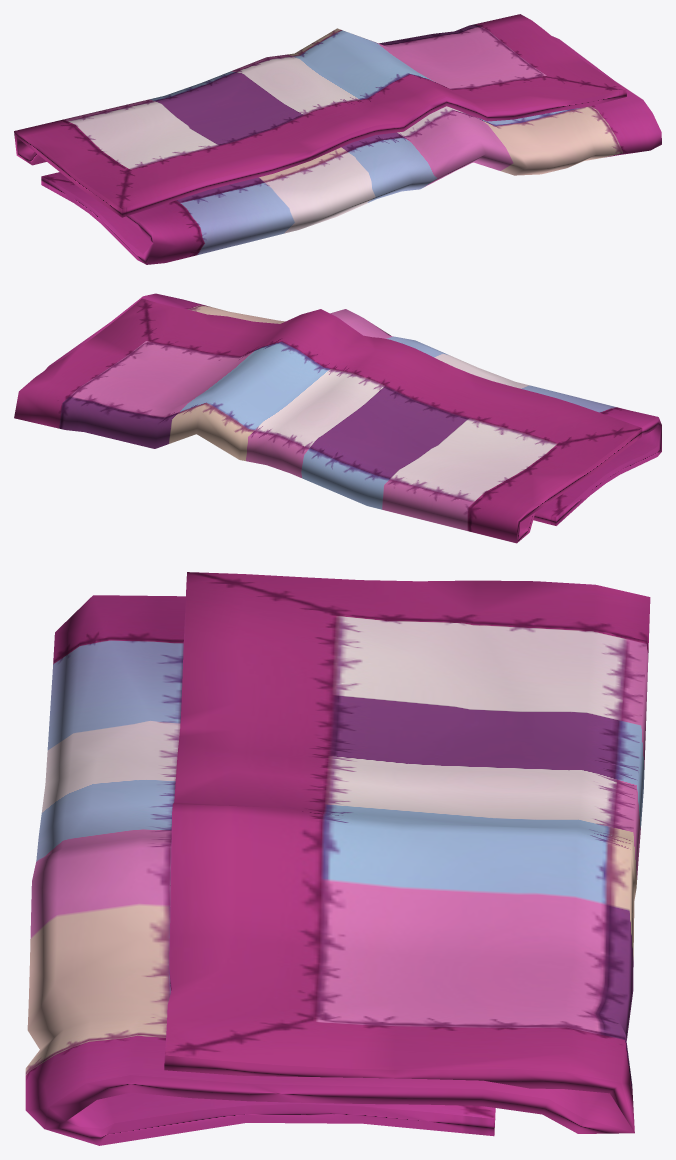
The model's file is babyBlanket_Girl.fbx.
3 renders of one model, top to bottom at view 1: azimuth 30°, elevation 25°; view 2: azimuth 150°, elevation 25°; view 3: azimuth 270°, elevation 25°, orthographic. The views are drawn at different scales.
Visible parts, largest first — view 1: babyBlanket_Girl; view 2: babyBlanket_Girl; view 3: babyBlanket_Girl.
Boxes of the visible parts, left/top/right/bottom form: babyBlanket_Girl: left=14, top=14, right=661, bottom=264; babyBlanket_Girl: left=14, top=293, right=661, bottom=543; babyBlanket_Girl: left=25, top=572, right=650, bottom=1145.
Bounding box in the file's own units: 1.03 × 0.1481 × 0.542.
Materials: 1 (1 with a texture image).
